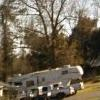Tree: (23, 6, 81, 64)
